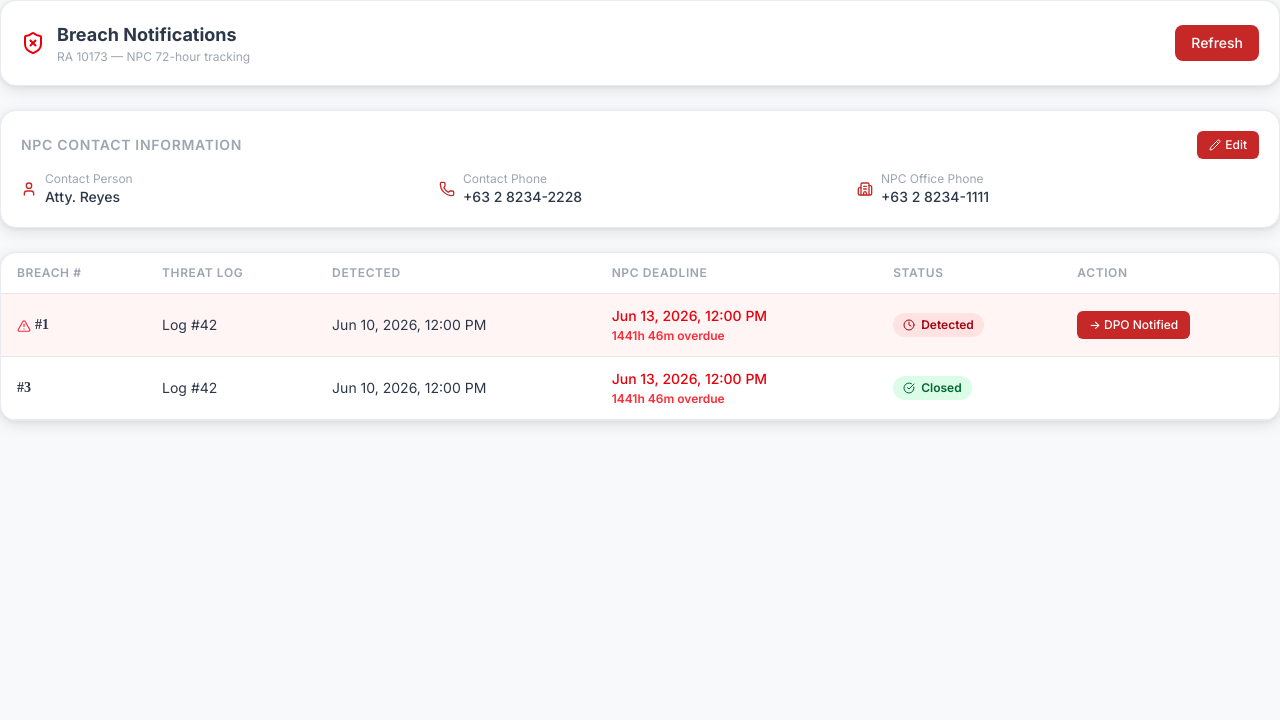
Test: Breach Notifications Page › advances status on modal confirm with notes
The width and height of the screenshot is (1280, 720).
Click the button with test id "advance-breach-1" at (1134, 325), box [1077,311,1190,339]
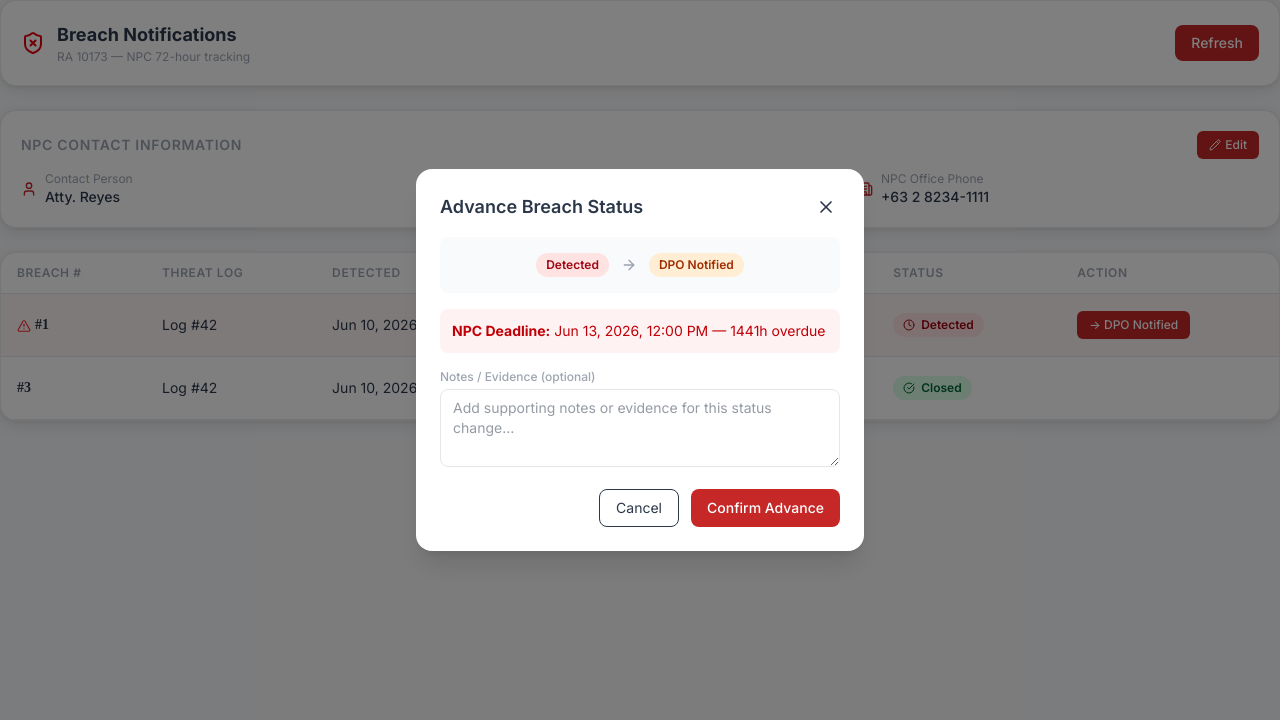
Expected: the text box with test id "advance-notes-input" is shown
# Type notes
Type "advancing with evidence" into the text box with test id "advance-notes-input" at (640, 428), box [440,389,840,467]
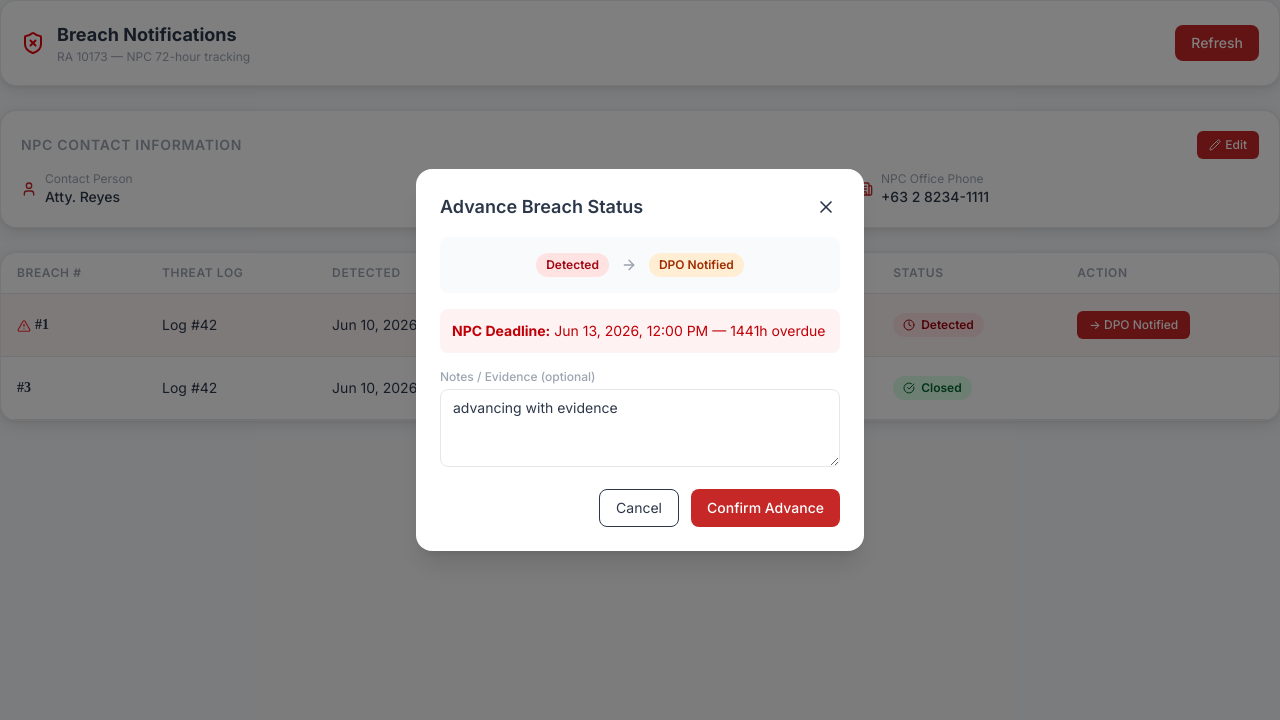
Click the button with test id "advance-modal-confirm" at (766, 508), box [691,489,840,527]
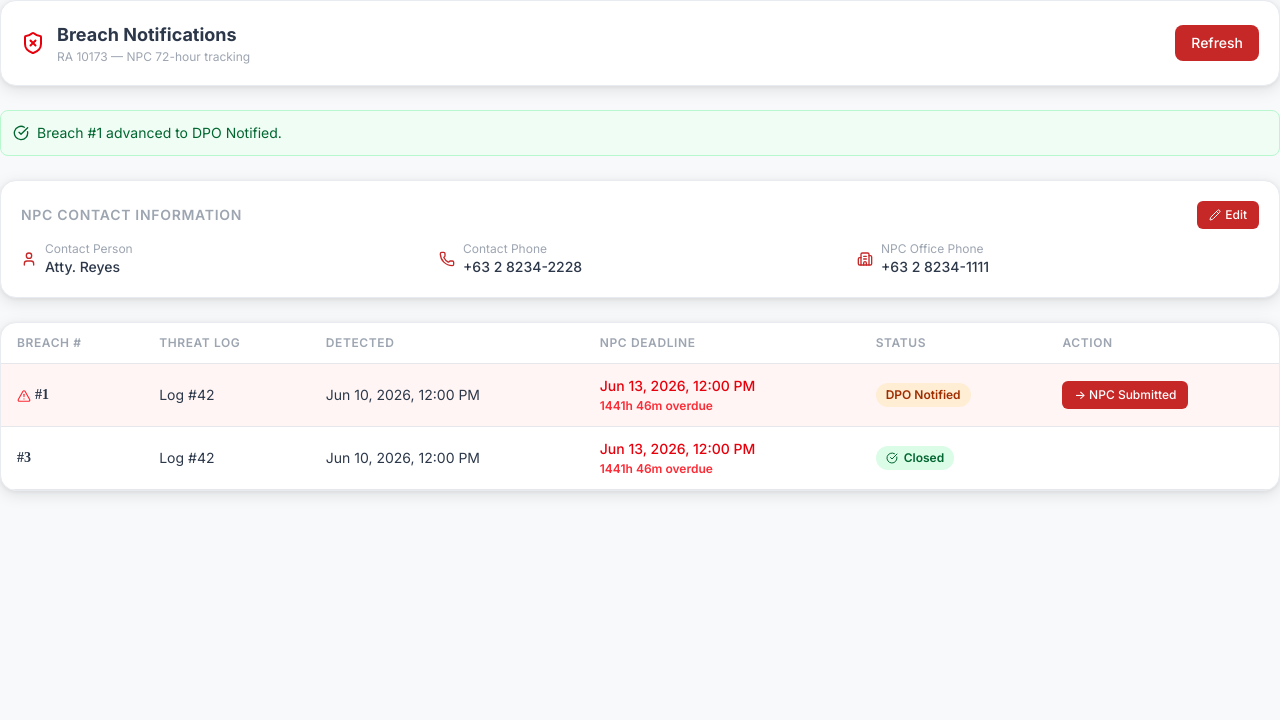
Expected: the element with test id "success-banner" is shown, [0,110,1279,156]
